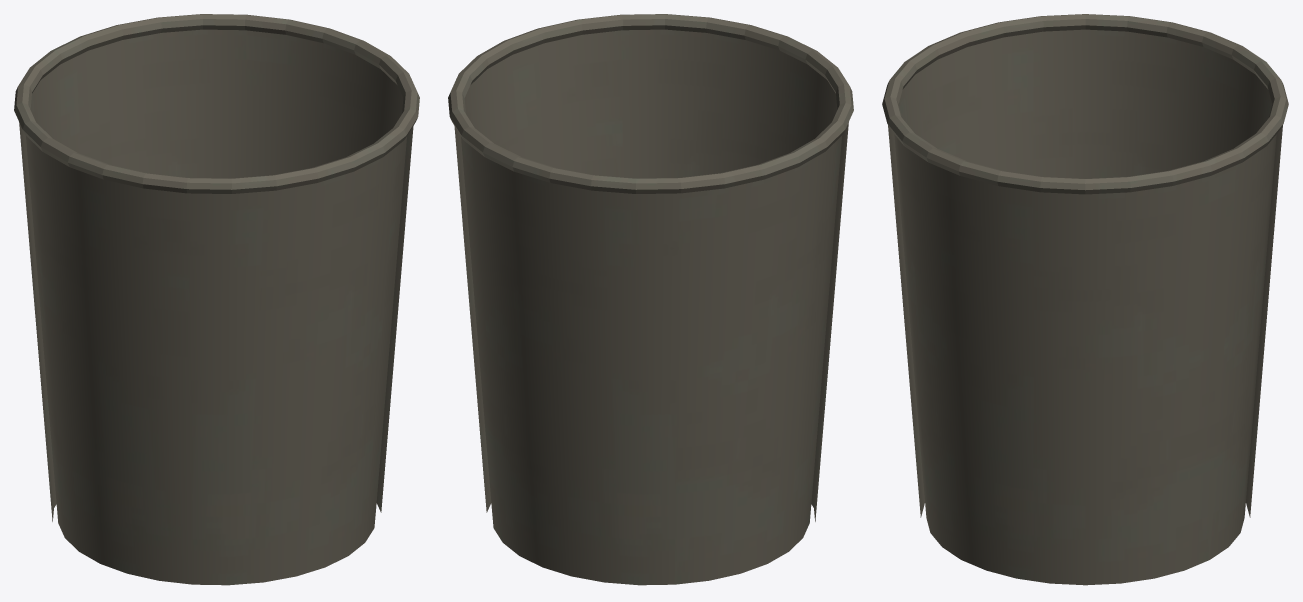
Rendered from waste-bin.glb.
3 views of the same model, side by side, from view 1: azimuth 30°, elevation 25°; view 2: azimuth 150°, elevation 25°; view 3: azimuth 270°, elevation 25° (orthographic).
Visible parts, largest first — view 1: waste_bin; view 2: waste_bin; view 3: waste_bin.
Part boxes in pixels (bbox=[...]): waste_bin: bbox=[14, 14, 419, 585]; waste_bin: bbox=[448, 14, 853, 585]; waste_bin: bbox=[882, 14, 1288, 585].
Size of the model in its own units: 0.294 by 0.3363 by 0.294.
Materials: 2 (2 with a texture image).
